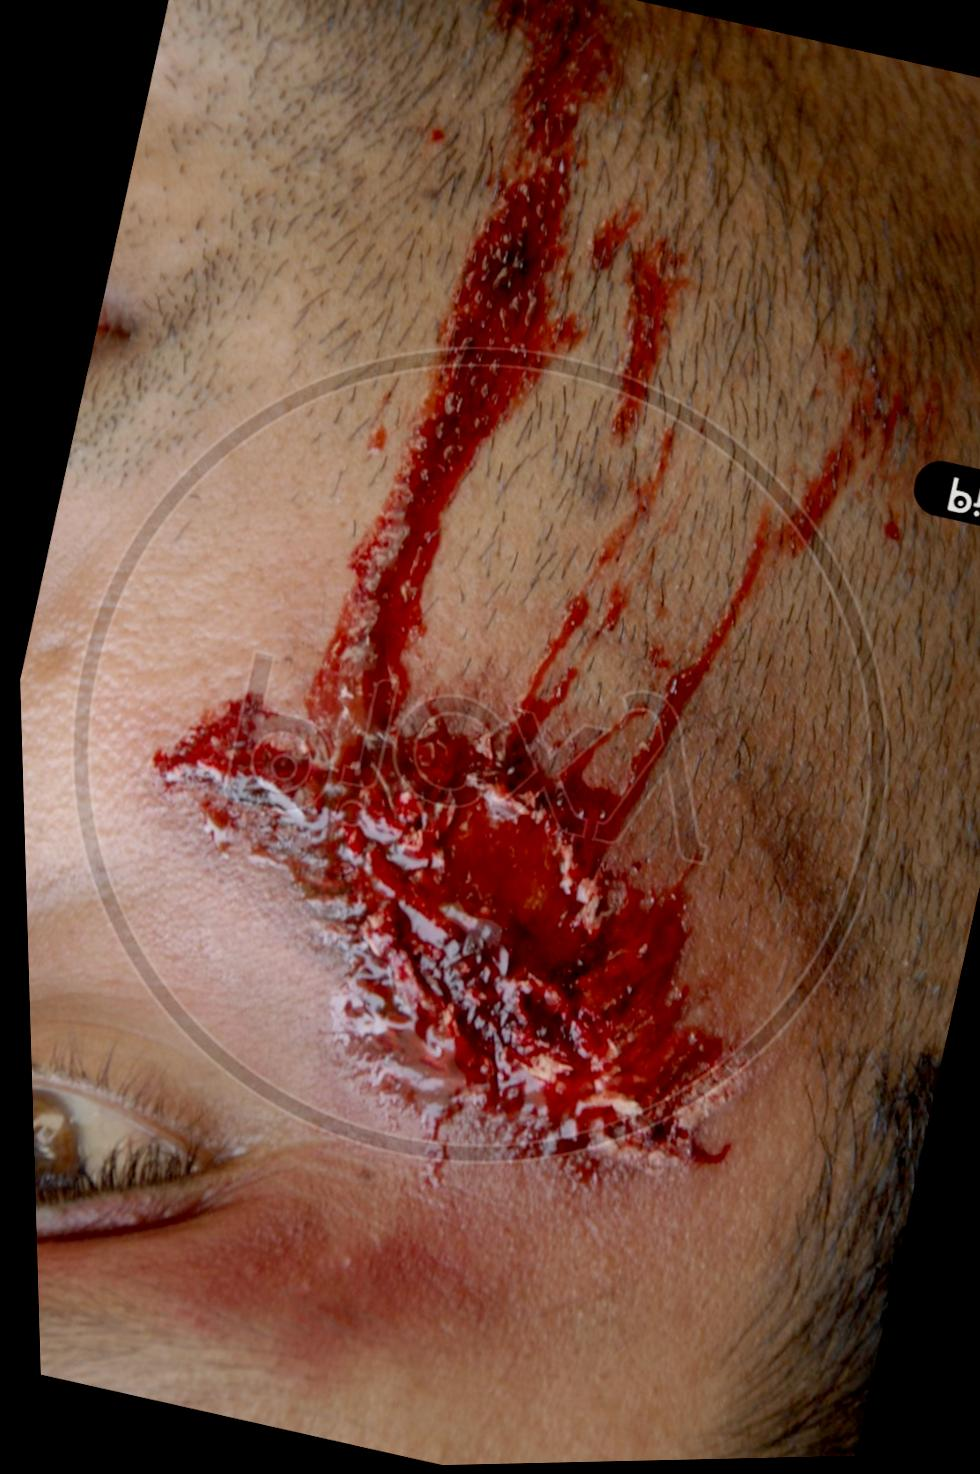Fire: (152, 0, 961, 1200)
